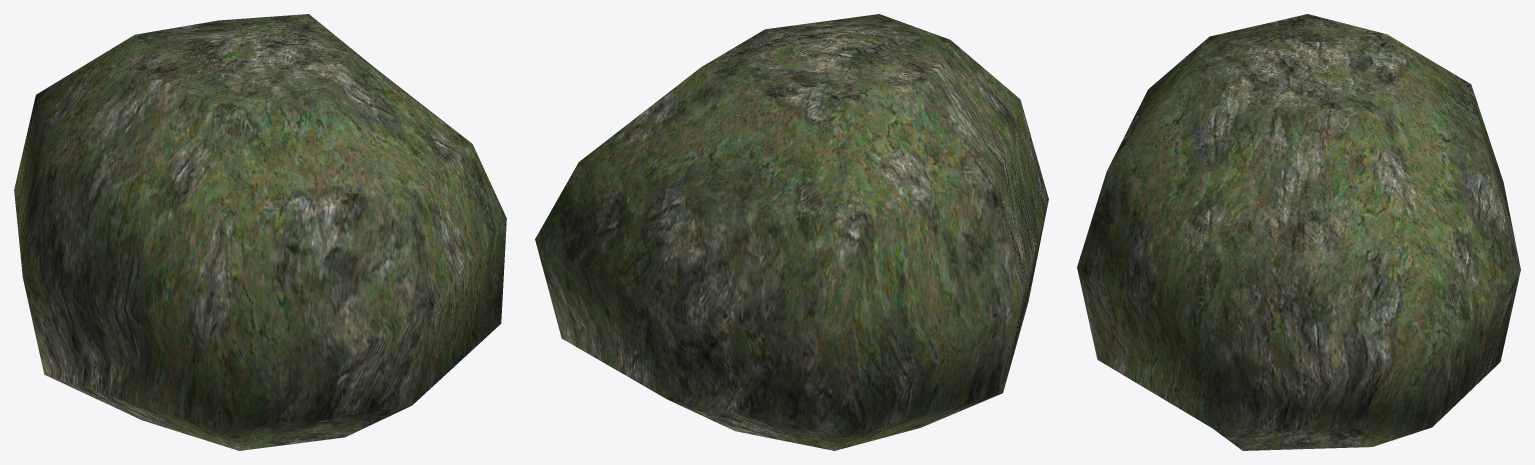
The model's file is mtns_rock_moss_a7_l0.fbx.
The picture shows the model from 3 angles, left to right: view 1: azimuth 30°, elevation 25°; view 2: azimuth 150°, elevation 25°; view 3: azimuth 270°, elevation 25°; orthographic projection. The views are drawn at different scales.
Visible parts, largest first — view 1: mesh_node; view 2: mesh_node; view 3: mesh_node.
Part boxes in pixels (left/top/right/bottom): mesh_node: left=14, top=14, right=506, bottom=450; mesh_node: left=535, top=14, right=1048, bottom=450; mesh_node: left=1077, top=14, right=1520, bottom=450.
Bounding box in the file's own units: 0.9963 × 0.8056 × 0.9466.
